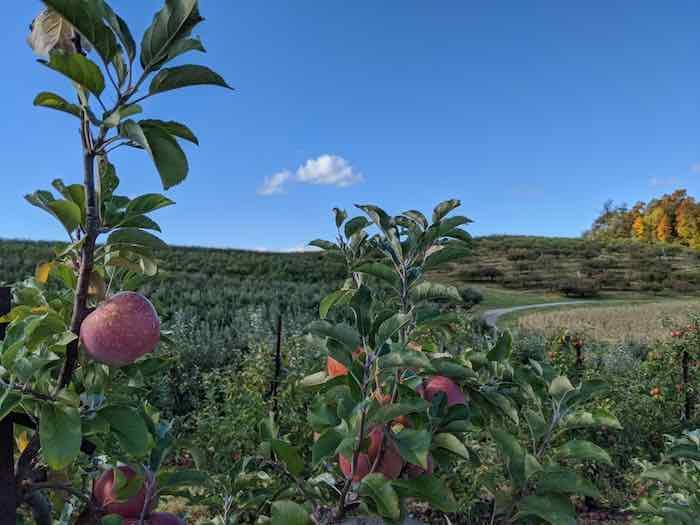apple: (82, 292, 159, 363)
